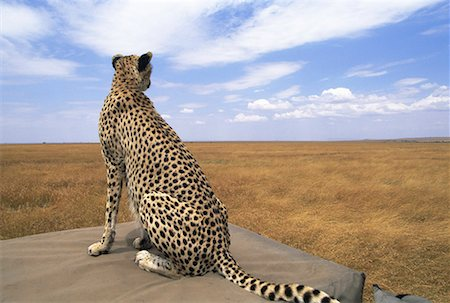Cheetah: (90, 50, 252, 284)
